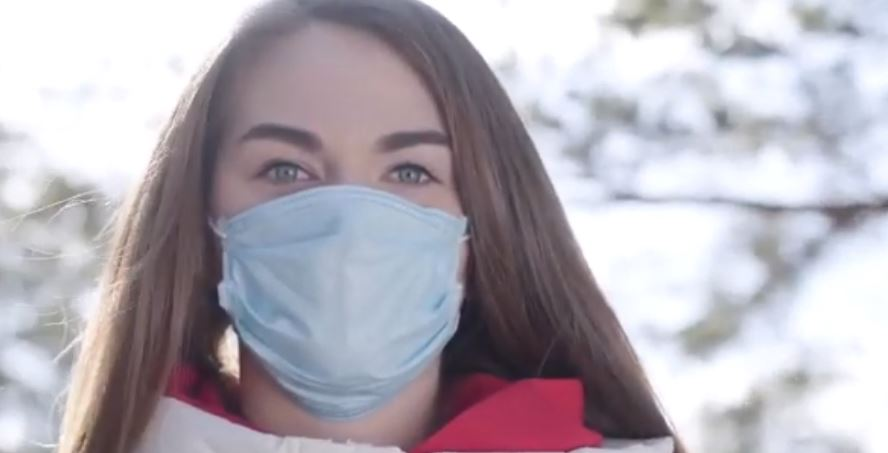with_mask: (231, 108, 452, 290)
